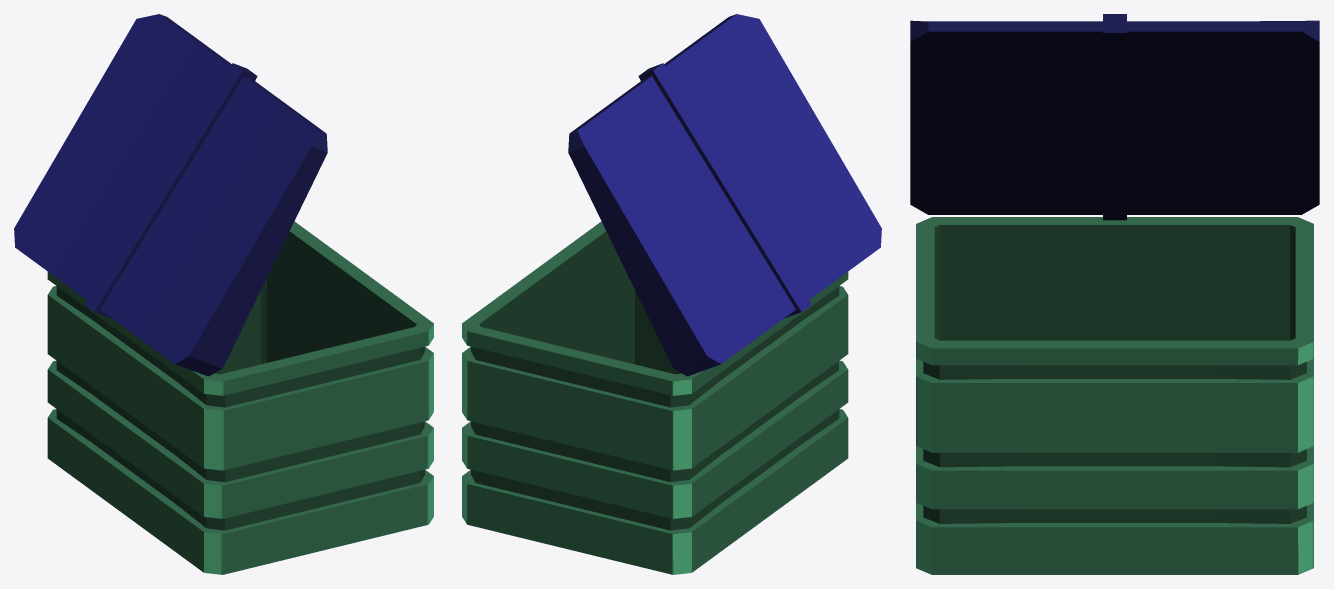
File: GarbageDumpOpen.glb
The picture shows the model from 3 angles, left to right: view 1: azimuth 30°, elevation 25°; view 2: azimuth 150°, elevation 25°; view 3: azimuth 270°, elevation 25°; orthographic projection. The views are drawn at different scales.
Parts seen in each view (by area): view 1: Cube, Cube.001; view 2: Cube, Cube.001; view 3: Cube, Cube.001.
Part boxes in pixels (x1=…): Cube: x1=47, y1=221, x2=433, y2=574; Cube.001: x1=14, y1=14, x2=327, y2=376; Cube: x1=462, y1=221, x2=848, y2=574; Cube.001: x1=568, y1=14, x2=881, y2=376; Cube: x1=916, y1=217, x2=1313, y2=574; Cube.001: x1=910, y1=14, x2=1319, y2=220.
Size of the model in its own units: 1.81 by 2.74 by 2.06.
Materials: 2 (2 with a texture image).
